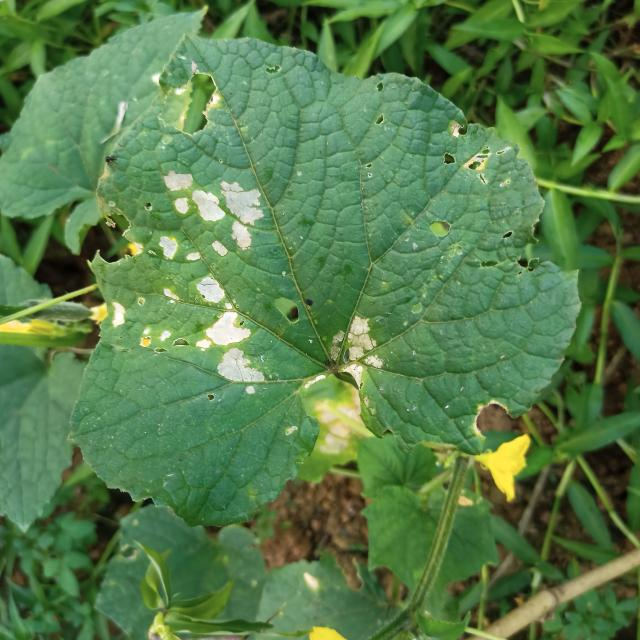disease_cucumber: (101, 270, 274, 401), (149, 151, 289, 267), (324, 301, 394, 400)
